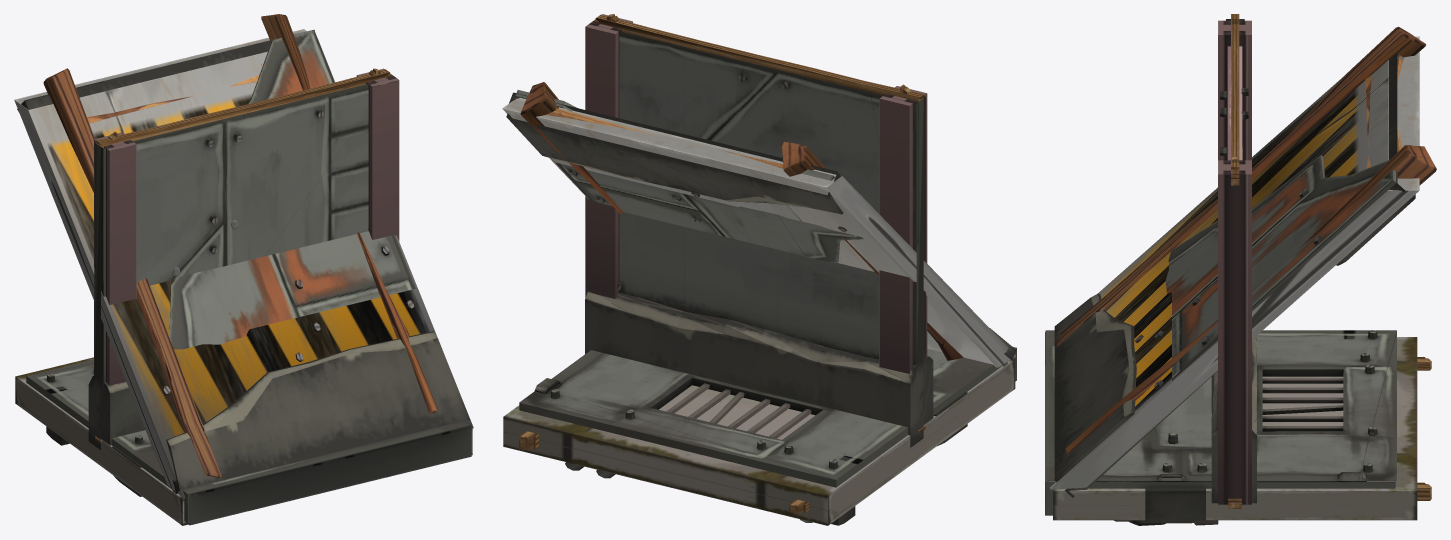
Rendered from build.glb.
3 renders of one model, left to right at view 1: azimuth 30°, elevation 25°; view 2: azimuth 150°, elevation 25°; view 3: azimuth 270°, elevation 25°, orthographic. The views are drawn at different scales.
Parts seen in each view (by area): view 1: metal_ramp, metal_wall, stone_ramp, metal_floor, stone_wall, wood_ramp, stone_floor, wood_wall; view 2: metal_wall, metal_floor, stone_floor, metal_ramp, stone_ramp, stone_wall, wood_ramp, wood_wall; view 3: metal_floor, metal_ramp, stone_ramp, stone_wall, stone_floor, wood_ramp, metal_wall, wood_wall, wood_floor.
Part boxes in pixels (x1,y1,x2,y2): metal_ramp: (17, 29, 469, 493); metal_wall: (88, 76, 392, 449); stone_ramp: (14, 29, 473, 498); metal_floor: (26, 359, 471, 525); stone_wall: (94, 68, 399, 385); wood_ramp: (43, 14, 437, 477); stone_floor: (15, 357, 472, 525); wood_wall: (95, 68, 392, 443); metal_wall: (585, 23, 933, 447); metal_floor: (519, 347, 1016, 525); stone_floor: (503, 358, 1015, 525); metal_ramp: (506, 90, 1016, 366); stone_ramp: (502, 97, 1016, 367); stone_wall: (585, 14, 927, 373); wood_ramp: (520, 82, 963, 360); wood_wall: (592, 14, 925, 433); metal_floor: (1045, 330, 1396, 525); metal_ramp: (1054, 52, 1415, 497); stone_ramp: (1050, 36, 1419, 489); stone_wall: (1218, 20, 1251, 504); stone_floor: (1053, 337, 1417, 520); wood_ramp: (1055, 26, 1436, 454); metal_wall: (1211, 19, 1256, 503); wood_wall: (1228, 14, 1242, 508); wood_floor: (1045, 357, 1431, 500).
Bounding box in the file's own units: 2.04 × 2.34 × 2.15.
Materials: 3 (3 with a texture image).
